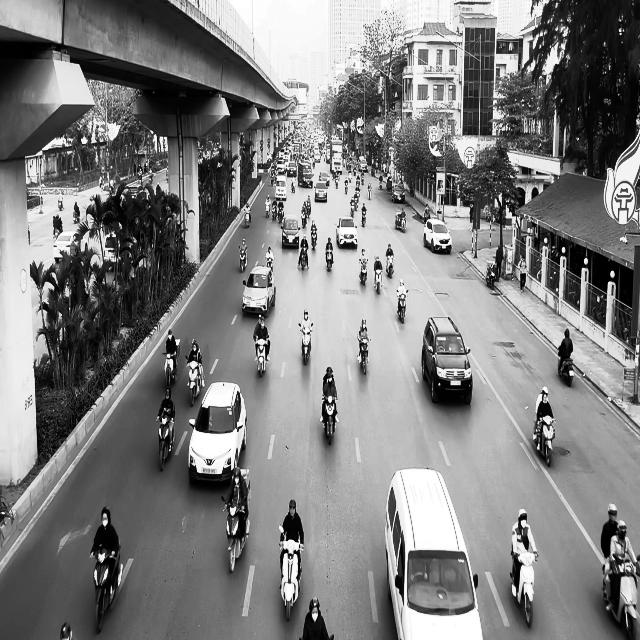car: (385, 467, 483, 639), (188, 382, 247, 484), (422, 315, 473, 405), (241, 266, 276, 316), (53, 230, 88, 264), (423, 218, 452, 254), (336, 216, 358, 248), (280, 214, 300, 248), (314, 182, 328, 202), (392, 184, 405, 202), (319, 170, 330, 187)
motorbike: (602, 552, 640, 639), (90, 539, 124, 633), (279, 526, 304, 621), (222, 495, 250, 572), (511, 550, 538, 627), (533, 412, 556, 467), (156, 413, 176, 471), (185, 356, 202, 407), (321, 394, 338, 444), (162, 346, 180, 389), (254, 335, 270, 377), (299, 322, 314, 364), (558, 354, 574, 386), (358, 337, 370, 374), (396, 289, 408, 324), (486, 260, 497, 288), (359, 258, 368, 285), (299, 246, 309, 270), (374, 265, 382, 294), (239, 246, 248, 271), (386, 254, 394, 278), (326, 248, 334, 271), (311, 229, 318, 250), (361, 208, 367, 226)
